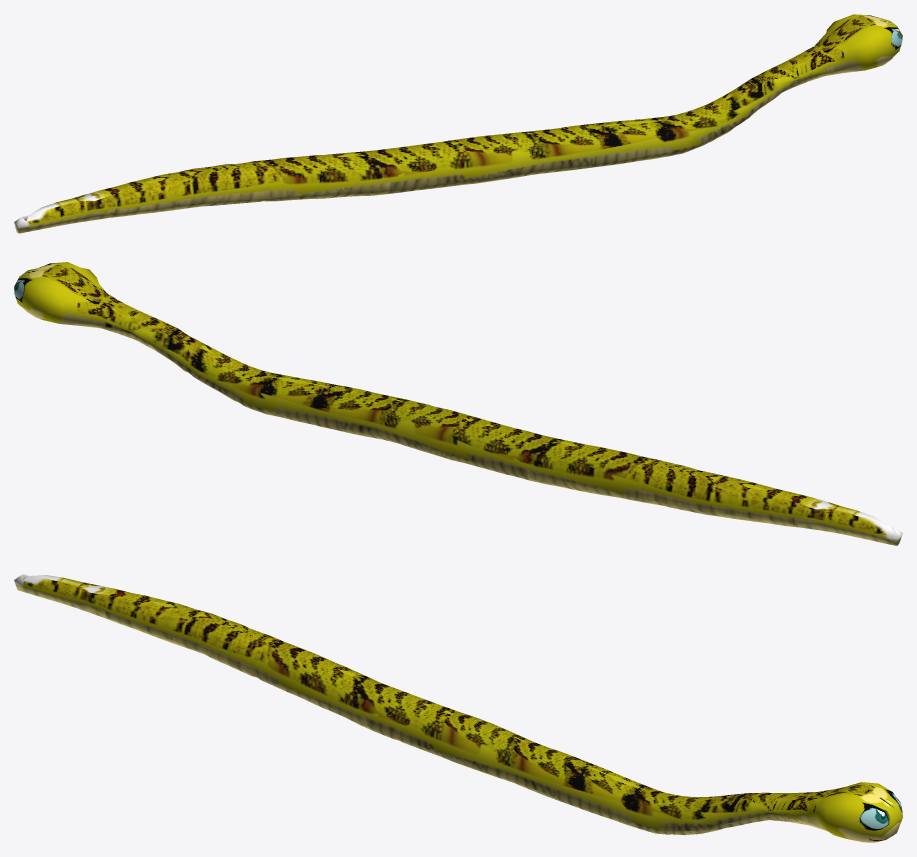
The model's file is snake_aug_10.obj.
3 renders of one model, top to bottom at view 1: azimuth 30°, elevation 25°; view 2: azimuth 150°, elevation 25°; view 3: azimuth 330°, elevation 25°, orthographic. The views are drawn at different scales.
Bounding box in the file's own units: 101 × 9.5 × 11.86.
1 material, 1 textured.
